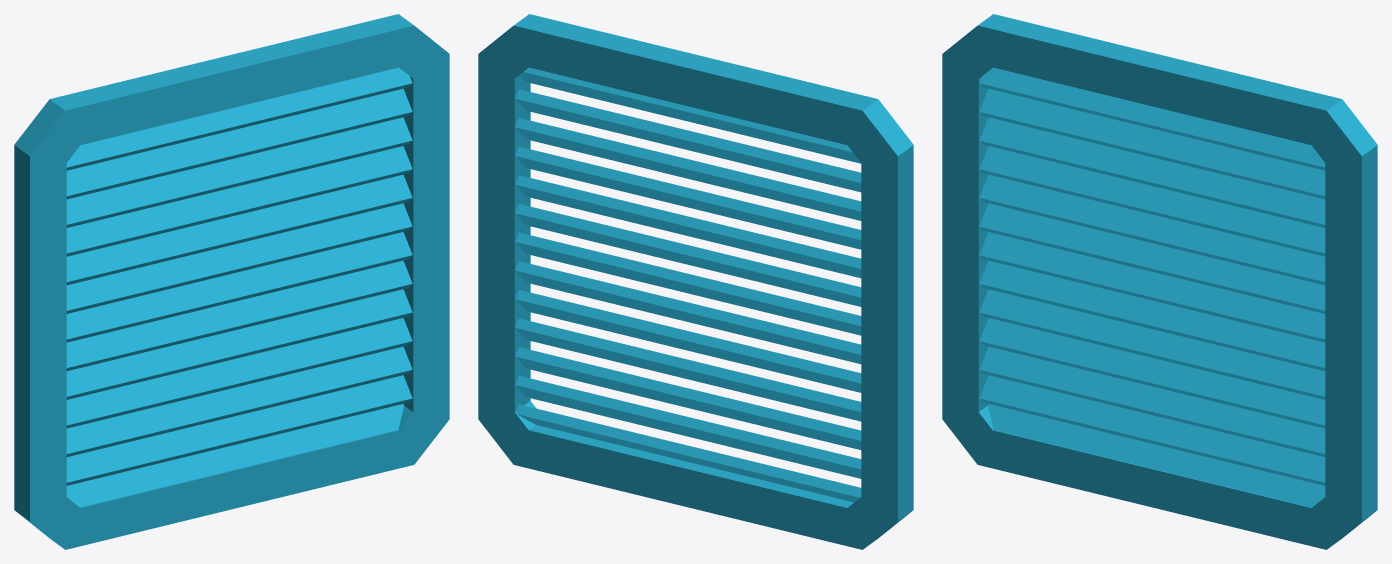
Rendered from L1E1_Doors_03_AirVent.fbx.
The picture shows the model from 3 angles, left to right: view 1: azimuth 30°, elevation 25°; view 2: azimuth 150°, elevation 25°; view 3: azimuth 330°, elevation 25°; orthographic projection.
Parts seen in each view (by area): view 1: Metal; view 2: Metal; view 3: Metal.
Boxes of the visible parts, box(x1,y1,x2,y2) form: Metal: box(14, 14, 449, 549); Metal: box(478, 14, 913, 549); Metal: box(942, 14, 1377, 549).
Bounding box in the file's own units: 0.46 × 0.46 × 0.03.
